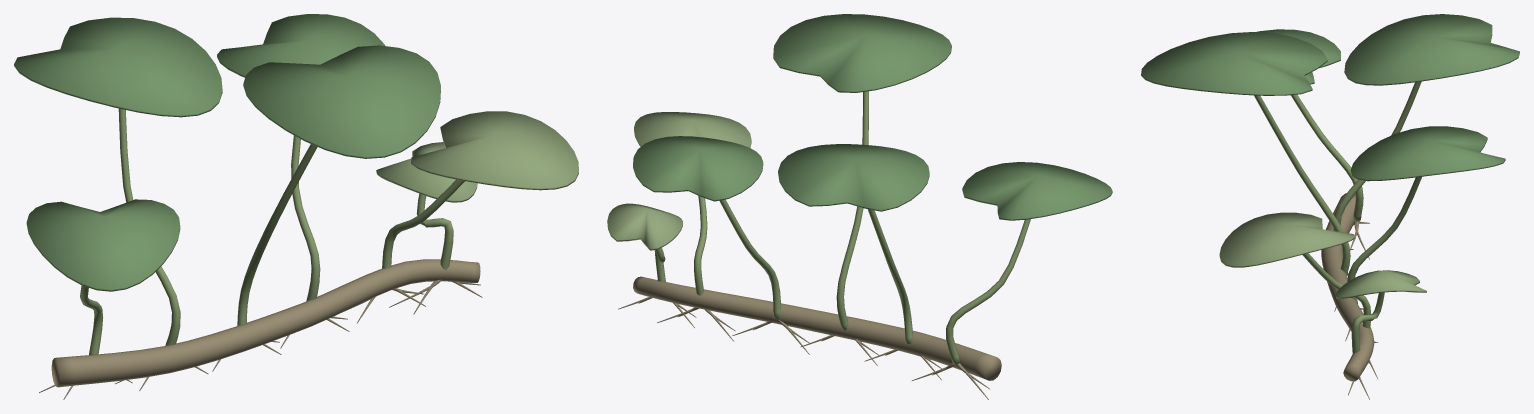
The model's file is pluricarpellatia.glb.
3 views of the same model, side by side, from view 1: azimuth 30°, elevation 25°; view 2: azimuth 150°, elevation 25°; view 3: azimuth 270°, elevation 25° (orthographic). The views are drawn at different scales.
Parts seen in each view (by area): view 1: simple-cordate-to-peltate-leaf-blades, horizontal-rhizome-with-visible-petiole-bases, curved-simple-petioles, rooted-shallow-freshwater-rootlets; view 2: simple-cordate-to-peltate-leaf-blades, horizontal-rhizome-with-visible-petiole-bases, curved-simple-petioles, rooted-shallow-freshwater-rootlets; view 3: simple-cordate-to-peltate-leaf-blades, curved-simple-petioles, horizontal-rhizome-with-visible-petiole-bases.
Boxes of the visible parts, <box> form: simple-cordate-to-peltate-leaf-blades: <box>14,14,578,291</box>; horizontal-rhizome-with-visible-petiole-bases: <box>51,259,480,387</box>; curved-simple-petioles: <box>80,108,464,354</box>; rooted-shallow-freshwater-rootlets: <box>39,279,482,399</box>; simple-cordate-to-peltate-leaf-blades: <box>607,14,1112,250</box>; horizontal-rhizome-with-visible-petiole-bases: <box>633,276,1001,380</box>; curved-simple-petioles: <box>654,91,1030,364</box>; rooted-shallow-freshwater-rootlets: <box>618,297,989,399</box>; simple-cordate-to-peltate-leaf-blades: <box>1141,14,1519,298</box>; curved-simple-petioles: <box>1254,81,1421,353</box>; horizontal-rhizome-with-visible-petiole-bases: <box>1321,193,1374,381</box>.
Size of the model in its own units: 0.18 by 0.1037 by 0.1358.
